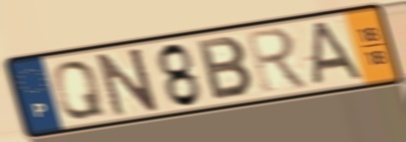8: (154, 39, 204, 111)
A: (308, 19, 368, 89)
B: (194, 35, 257, 103)
N: (93, 45, 162, 120)
Q: (50, 58, 109, 121)
R: (242, 25, 313, 95)
